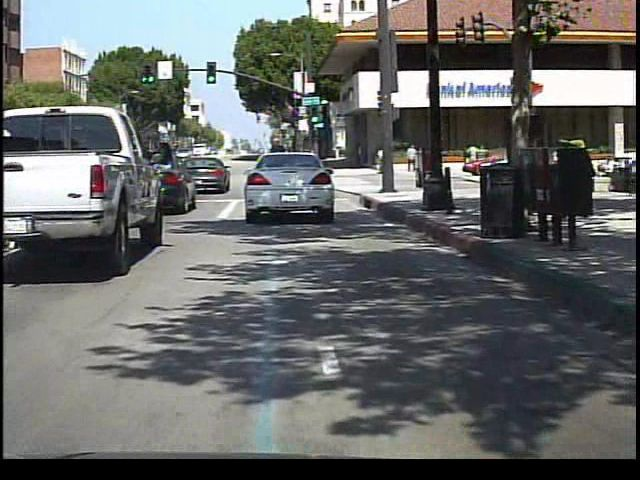person: (462, 139, 481, 173), (403, 142, 420, 175)
